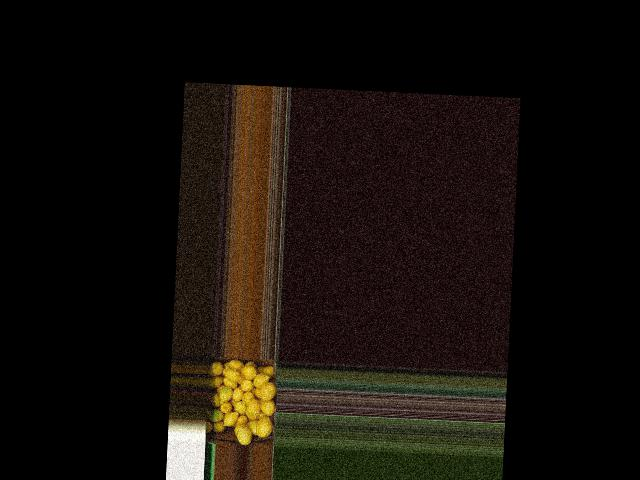lemon: (232, 401, 246, 413)
